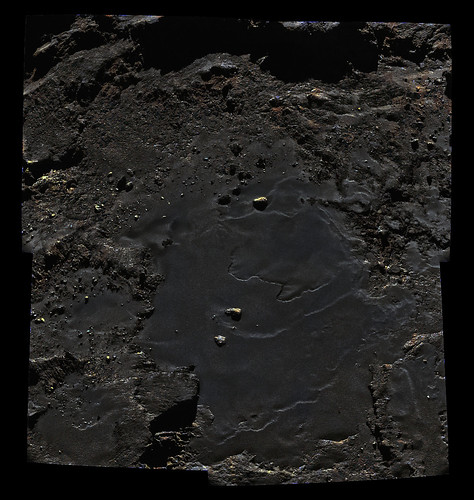dirt: (27, 27, 440, 466)
